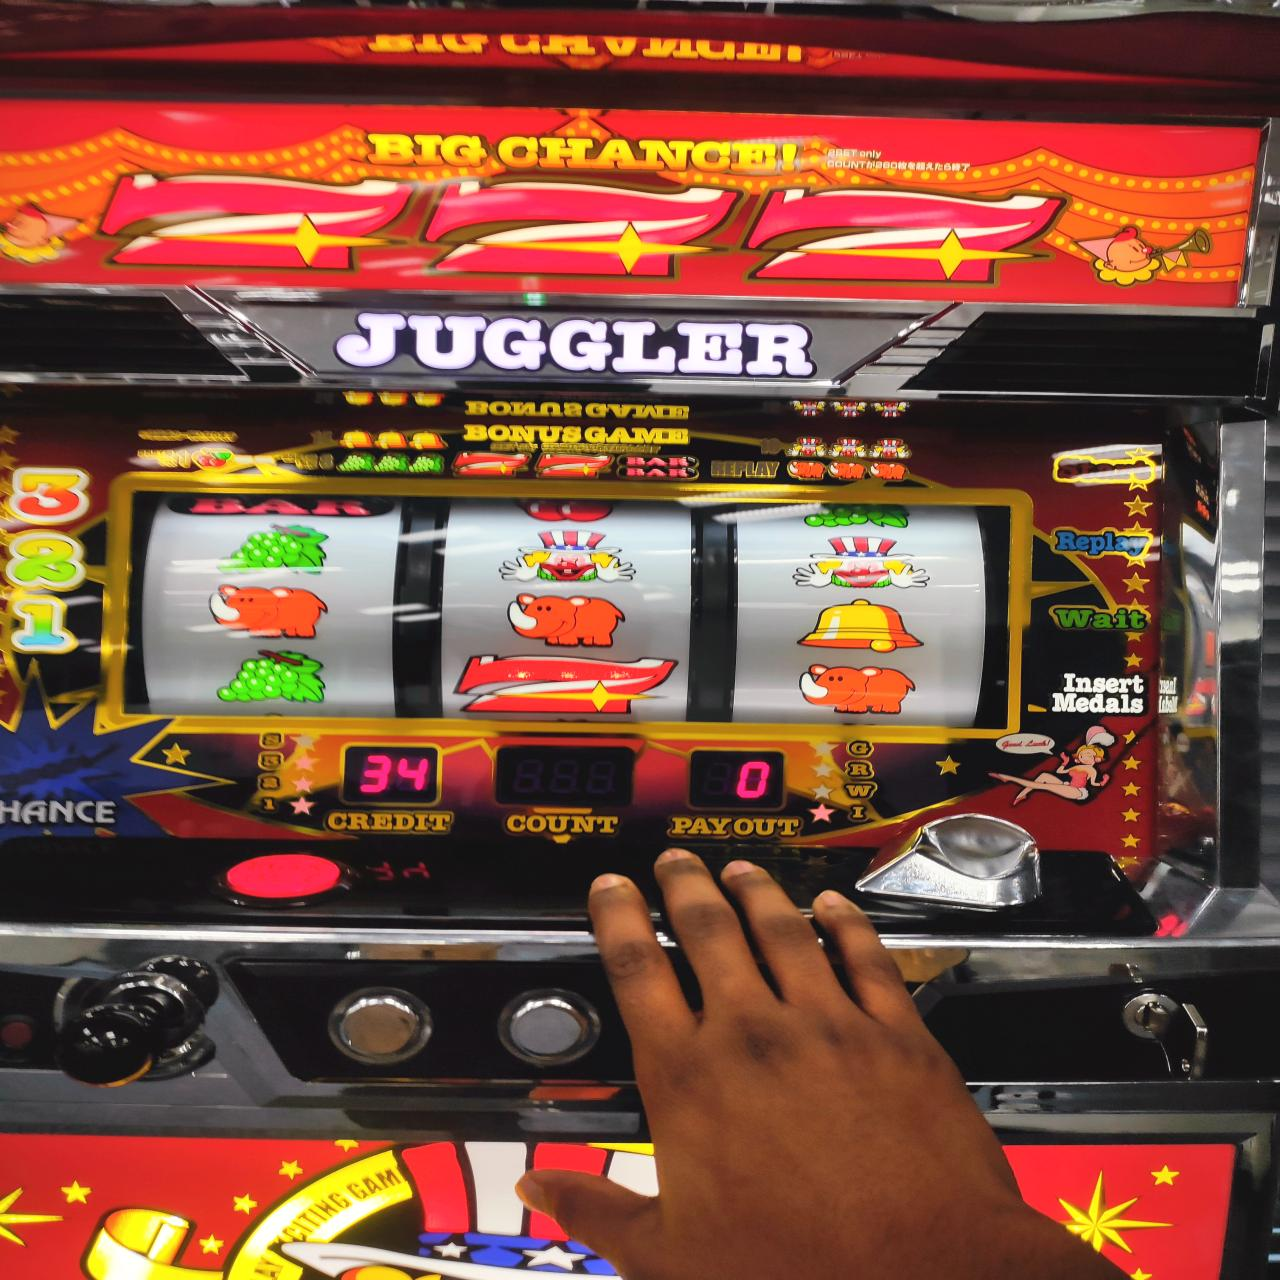7: (445, 653, 678, 716)
8: (503, 590, 628, 647), (206, 583, 331, 639), (796, 665, 917, 714)
Display: (125, 486, 1012, 730)
bell: (796, 599, 927, 652)
clown: (788, 535, 931, 592), (502, 527, 635, 586)
grape: (217, 522, 332, 579), (216, 647, 327, 703)
